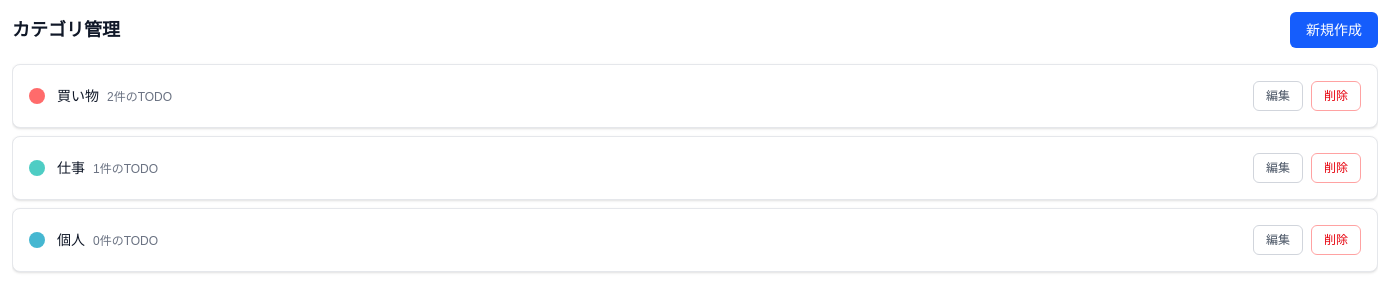
Test: CategoryList › 削除ボタンで確認ダイアログが表示される
Expected: the text "買い物" is shown, [57, 88, 99, 104]
Click the button with aria-label "買い物を削除" at (1336, 96), box [1311, 81, 1361, 111]
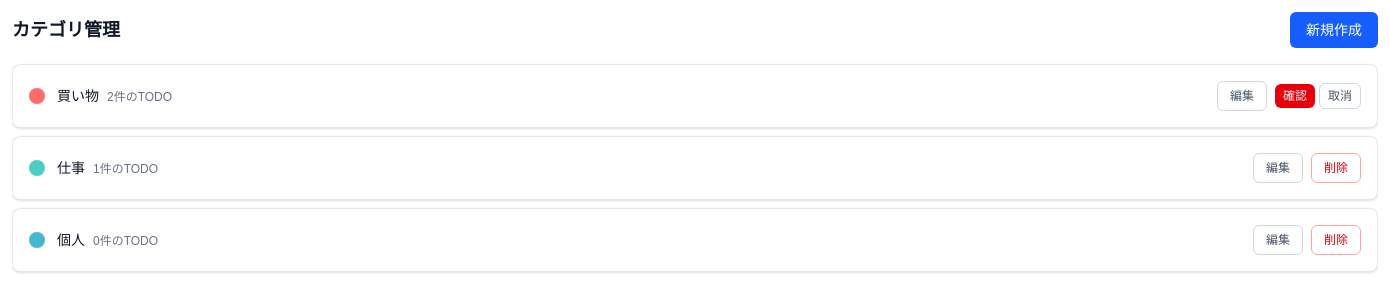
Result: the button "確認" is shown at [1275, 84, 1315, 108]
Result: the button "取消" is shown at [1319, 83, 1361, 109]
